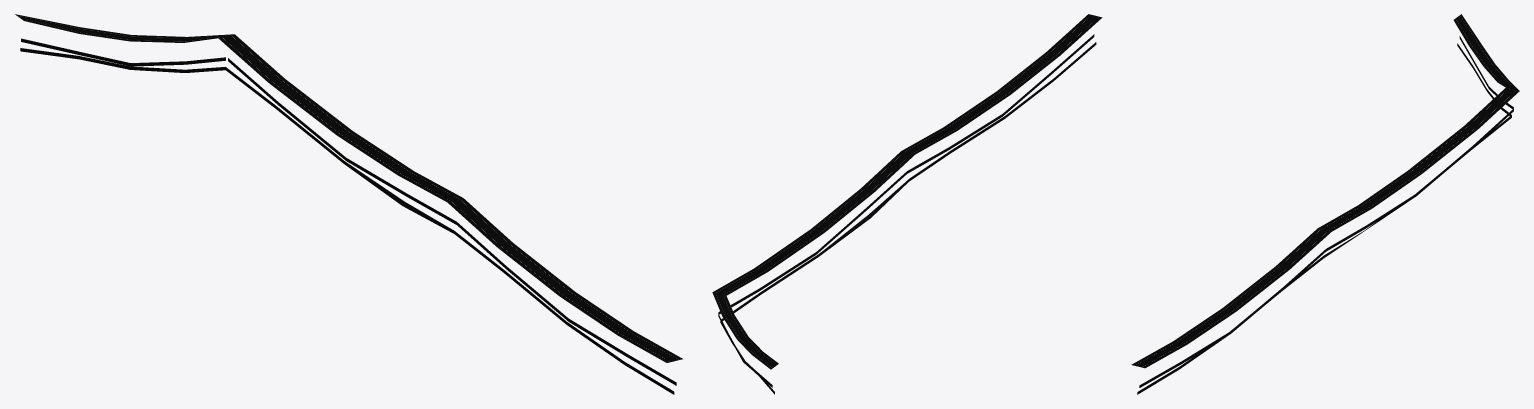
File: vegastwires06.obj
3 views of the same model, side by side, from view 1: azimuth 30°, elevation 25°; view 2: azimuth 150°, elevation 25°; view 3: azimuth 330°, elevation 25° (orthographic). The views are drawn at different scales.
Parts seen in each view (by area): view 1: vegastwires06; view 2: vegastwires06; view 3: vegastwires06.
Part boxes in pixels (x1,y1,x2,y2): vegastwires06: (15, 14, 682, 394); vegastwires06: (712, 14, 1102, 394); vegastwires06: (1131, 14, 1519, 394).
Size of the model in its own units: 23.08 by 6.29 by 140.
1 material, 1 textured.
